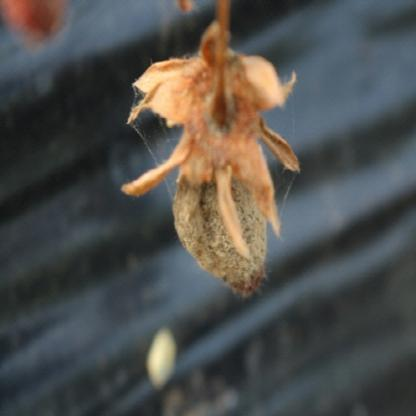Strawberry_Gray_Mold: (120, 17, 301, 299)
